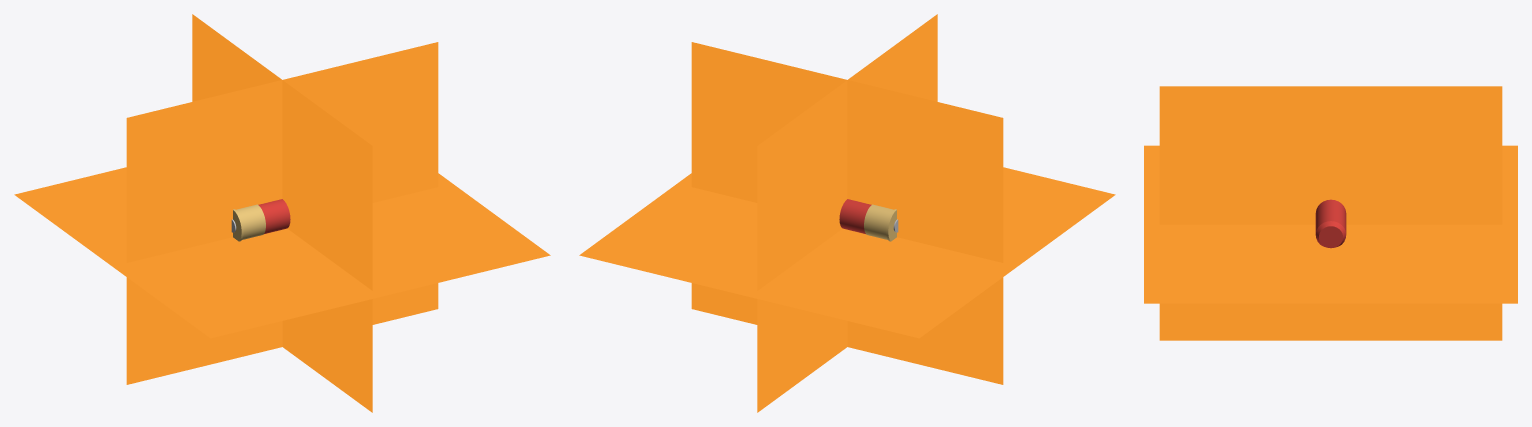
File: ShotgunShell.fbx
3 renders of one model, left to right at view 1: azimuth 30°, elevation 25°; view 2: azimuth 150°, elevation 25°; view 3: azimuth 270°, elevation 25°, orthographic. The views are drawn at different scales.
Parts seen in each view (by area): view 1: ShotgunShell_Glow, ShotgunShell; view 2: ShotgunShell_Glow, ShotgunShell; view 3: ShotgunShell_Glow, ShotgunShell.
Part boxes in pixels (x1,y1,x2,y2): ShotgunShell_Glow: [14, 14, 550, 412]; ShotgunShell: [231, 199, 290, 241]; ShotgunShell_Glow: [579, 14, 1115, 412]; ShotgunShell: [839, 199, 898, 241]; ShotgunShell_Glow: [1144, 86, 1517, 340]; ShotgunShell: [1315, 199, 1346, 248].
Bounding box in the file's own units: 0.24 × 0.18 × 0.24.
